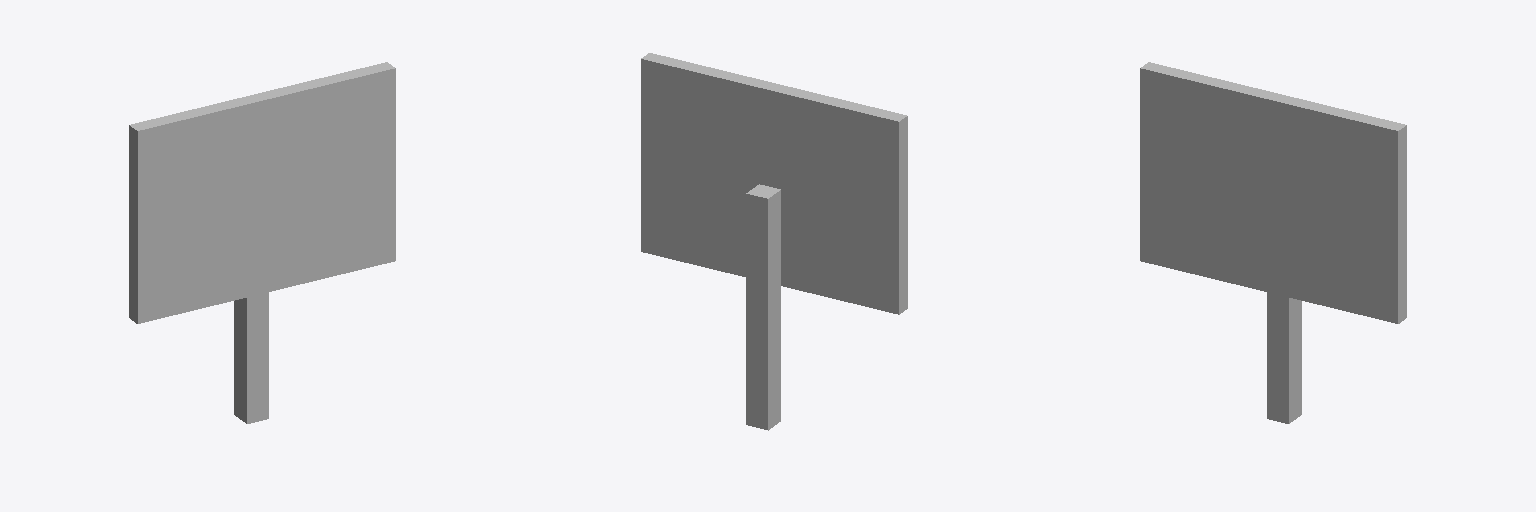
The model's file is sign_collider.sgm.obj.
3 renders of one model, left to right at view 1: azimuth 30°, elevation 25°; view 2: azimuth 150°, elevation 25°; view 3: azimuth 330°, elevation 25°, orthographic.
Parts seen in each view (by area): view 1: 0; view 2: 0; view 3: 0.
Boxes of the visible parts, x1=… form: 0: x1=129, y1=62, x2=395, y2=423; 0: x1=641, y1=53, x2=907, y2=430; 0: x1=1140, y1=62, x2=1406, y2=423.
Bounding box in the file's own units: 0.7 × 0.85 × 0.1.